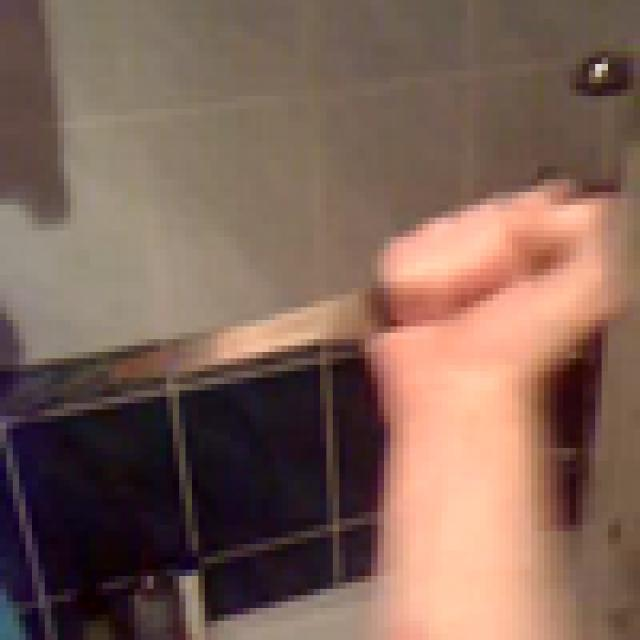knife: (7, 224, 570, 448)
